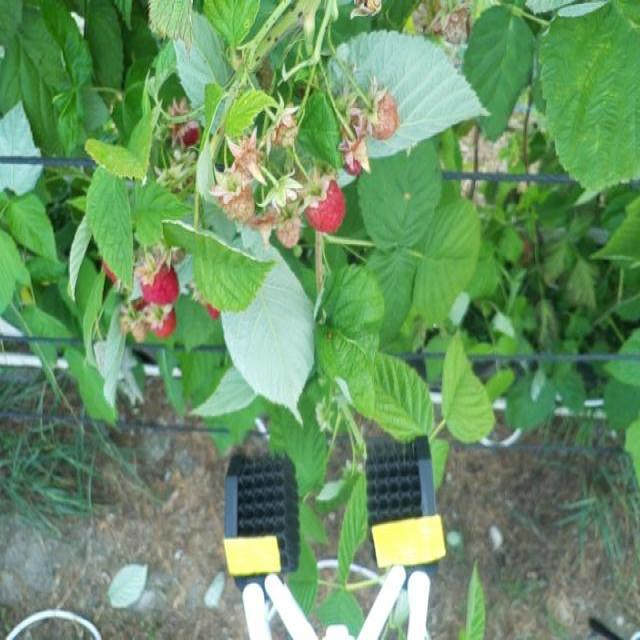Riped berries: (303, 173, 347, 235), (139, 250, 180, 300), (139, 302, 183, 343), (339, 140, 369, 182), (174, 114, 203, 150)
